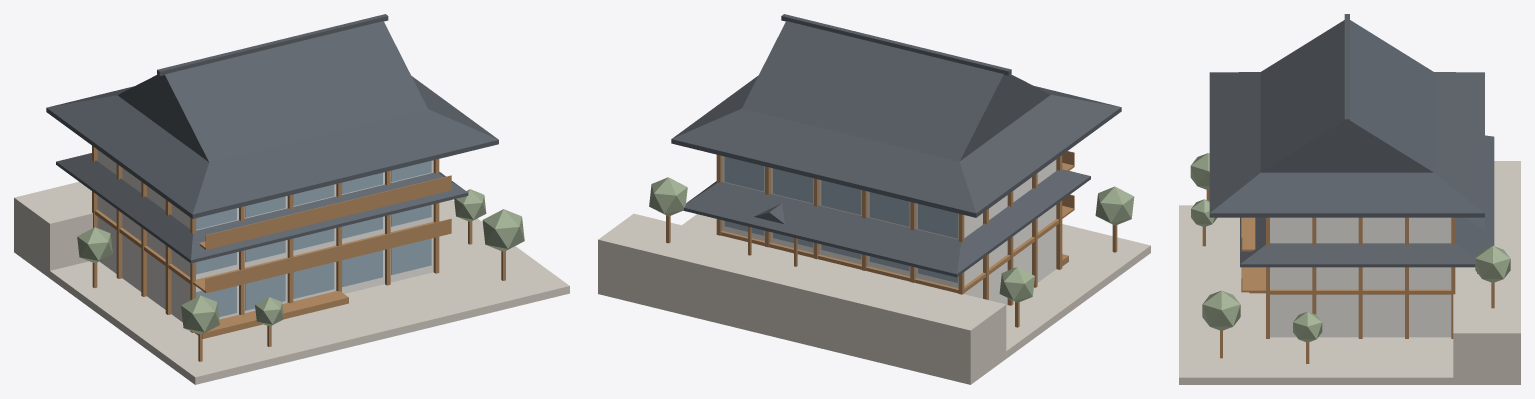
The model's file is primeofis-sema.glb.
3 views of the same model, side by side, from view 1: azimuth 30°, elevation 25°; view 2: azimuth 150°, elevation 25°; view 3: azimuth 270°, elevation 25° (orthographic). The views are drawn at different scales.
Visible parts, largest first — view 1: Zemin_Bahce, Ust_Cati, Ana_Sacak, Etek_Cati, Govde, Zemin_Yol_Kotu, Korkuluk_1, Korkuluk_2, Engawa, Mahya, Agac_Tac_2, Agac_Tac_0 (+25 smaller); view 2: Zemin_Yol_Kotu, Ust_Cati, Ana_Sacak, Etek_Cati, Zemin_Bahce, Govde, Kat_Bandi_+3.97, Mahya, Agac_Tac_0, Agac_Tac_5, Cam_K_7.9_0, Cam_K_7.9_1 (+5 smaller); view 3: Ana_Sacak, Ust_Cati, Zemin_Bahce, Govde, Zemin_Yol_Kotu, Etek_Cati, Agac_Tac_2, Agac_Tac_5, Kat_Bandi_+3.97, Agac_Tac_3, Mahya, Balkon_1 (+8 smaller).
Part boxes in pixels (x1,y1,x2,y2): Zemin_Bahce: (50,200,569,384); Ust_Cati: (117,21,427,162); Ana_Sacak: (46,76,498,218); Etek_Cati: (56,153,468,263); Govde: (97,150,433,322); Zemin_Yol_Kotu: (14,182,92,278); Korkuluk_1: (205,218,451,291); Korkuluk_2: (205,175,451,248); Engawa: (194,291,348,338); Mahya: (157,14,388,75); Agac_Tac_2: (482,209,524,251); Agac_Tac_0: (181,295,219,334); Zemin_Yol_Kotu: (598,213,1006,384); Ust_Cati: (742,21,1050,161); Ana_Sacak: (671,75,1121,217); Etek_Cati: (683,169,1090,277); Zemin_Bahce: (682,214,1150,358); Govde: (722,156,1056,305); Kat_Bandi_+3.97: (720,219,1059,293); Mahya: (781,14,1011,75); Agac_Tac_0: (1095,186,1134,225); Agac_Tac_5: (649,177,687,216); Cam_K_7.9_0: (918,204,958,238); Cam_K_7.9_1: (869,192,909,226); Ana_Sacak: (1209,72,1484,217); Ust_Cati: (1260,20,1433,172); Zemin_Bahce: (1179,205,1453,384); Govde: (1270,217,1451,337); Zemin_Yol_Kotu: (1453,161,1520,384); Etek_Cati: (1240,135,1494,267); Agac_Tac_2: (1202,290,1240,330); Agac_Tac_5: (1475,246,1510,282); Kat_Bandi_+3.97: (1270,289,1451,294); Agac_Tac_3: (1293,311,1322,342); Mahya: (1344,14,1349,123); Balkon_1: (1241,267,1265,292).
Size of the model in its own units: 30.8 by 18.55 by 25.8.
